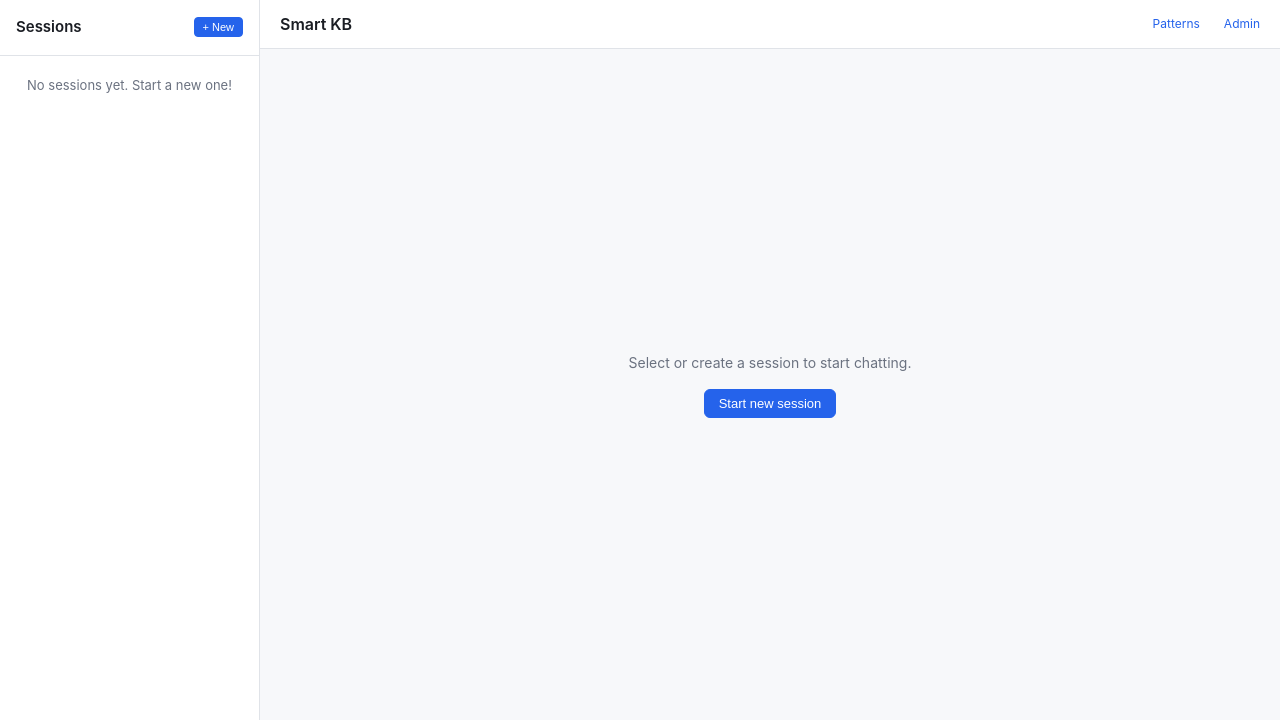
it: ChatPage › shows error banner when session creation fails
Click the button "Start new session": (770, 403) [704, 388, 836, 418]
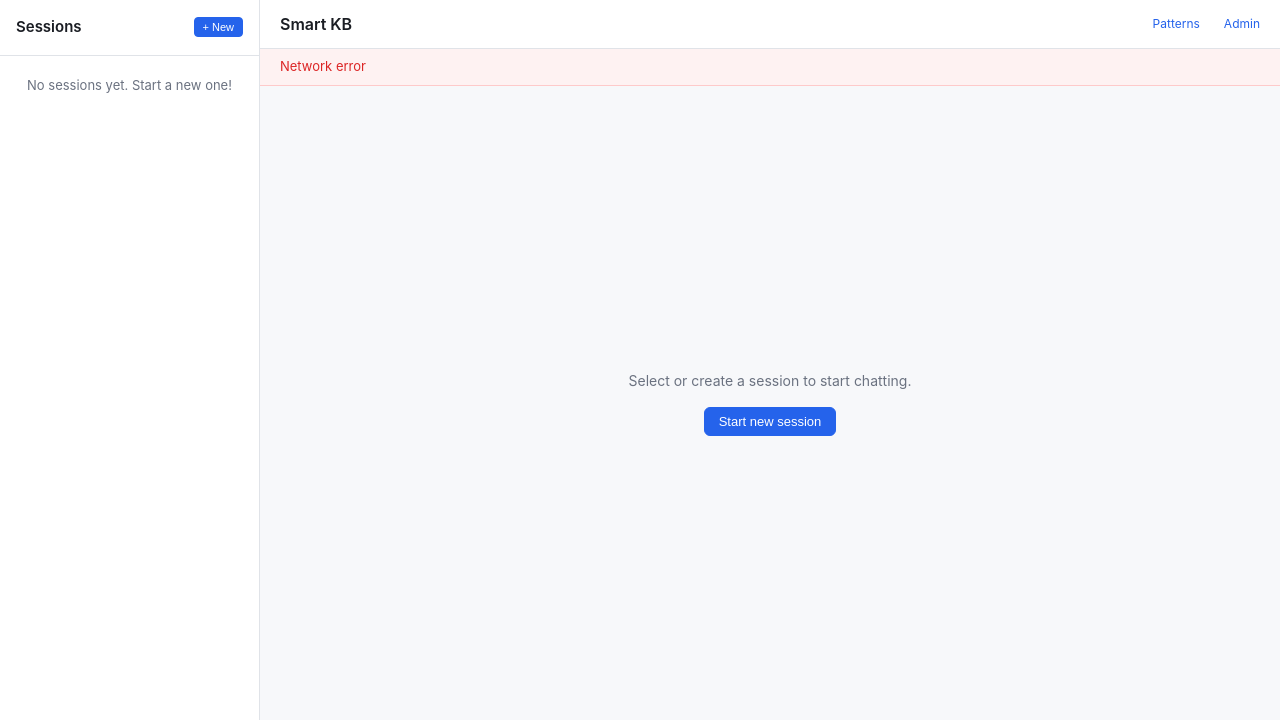
Expected: the text "Network error" is shown, [260, 49, 1279, 86]
